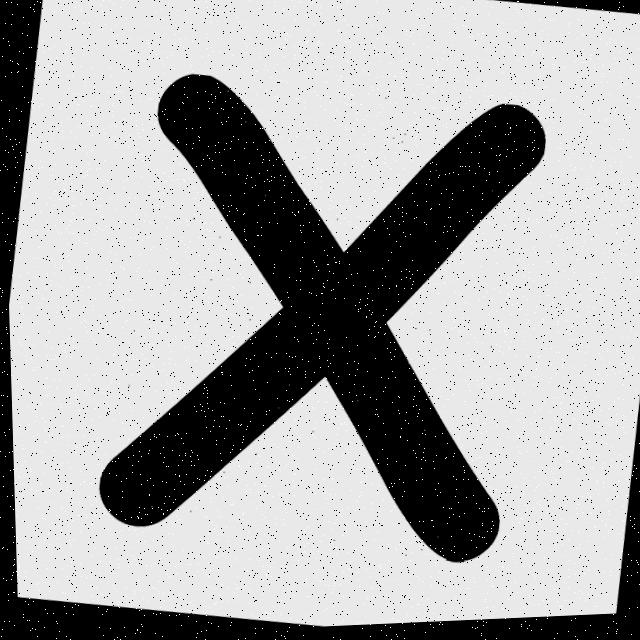X: (97, 77, 544, 565)
